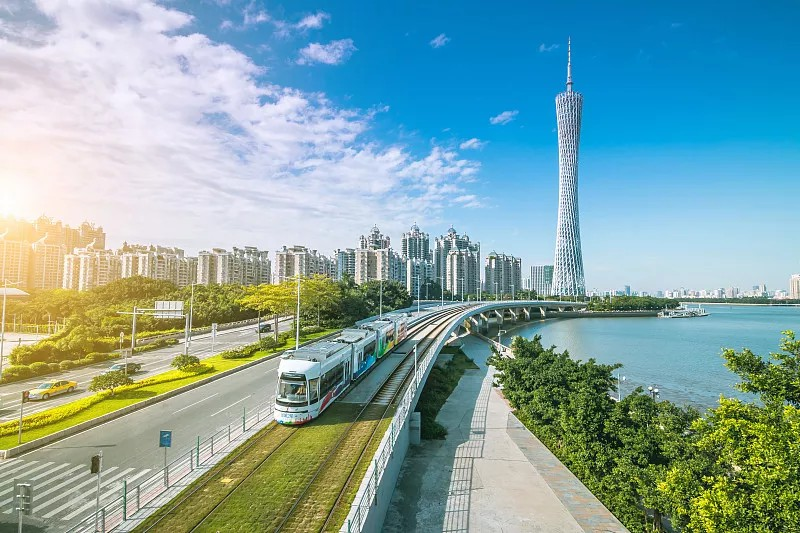Canton: (551, 34, 587, 297)
